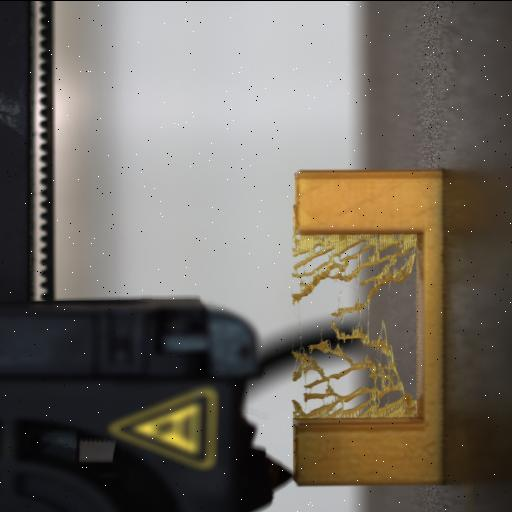stringing: (291, 234, 415, 418)
